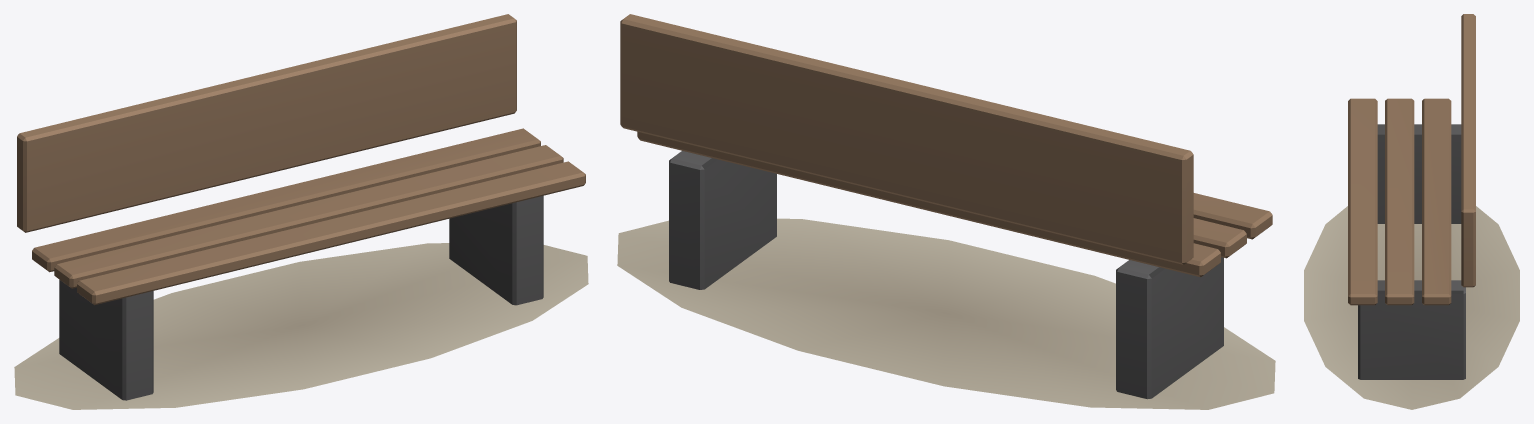
The model's file is bench.glb.
3 views of the same model, side by side, from view 1: azimuth 30°, elevation 25°; view 2: azimuth 150°, elevation 25°; view 3: azimuth 270°, elevation 25° (orthographic). The views are drawn at different scales.
Parts seen in each view (by area): view 1: bench; view 2: bench; view 3: bench.
Part boxes in pixels (box(x1,y1,x2,y2)): bench: box(14, 14, 588, 409); bench: box(617, 14, 1275, 409); bench: box(1304, 14, 1519, 409).
Size of the model in its own units: 2.2 by 0.85 by 0.8775.
